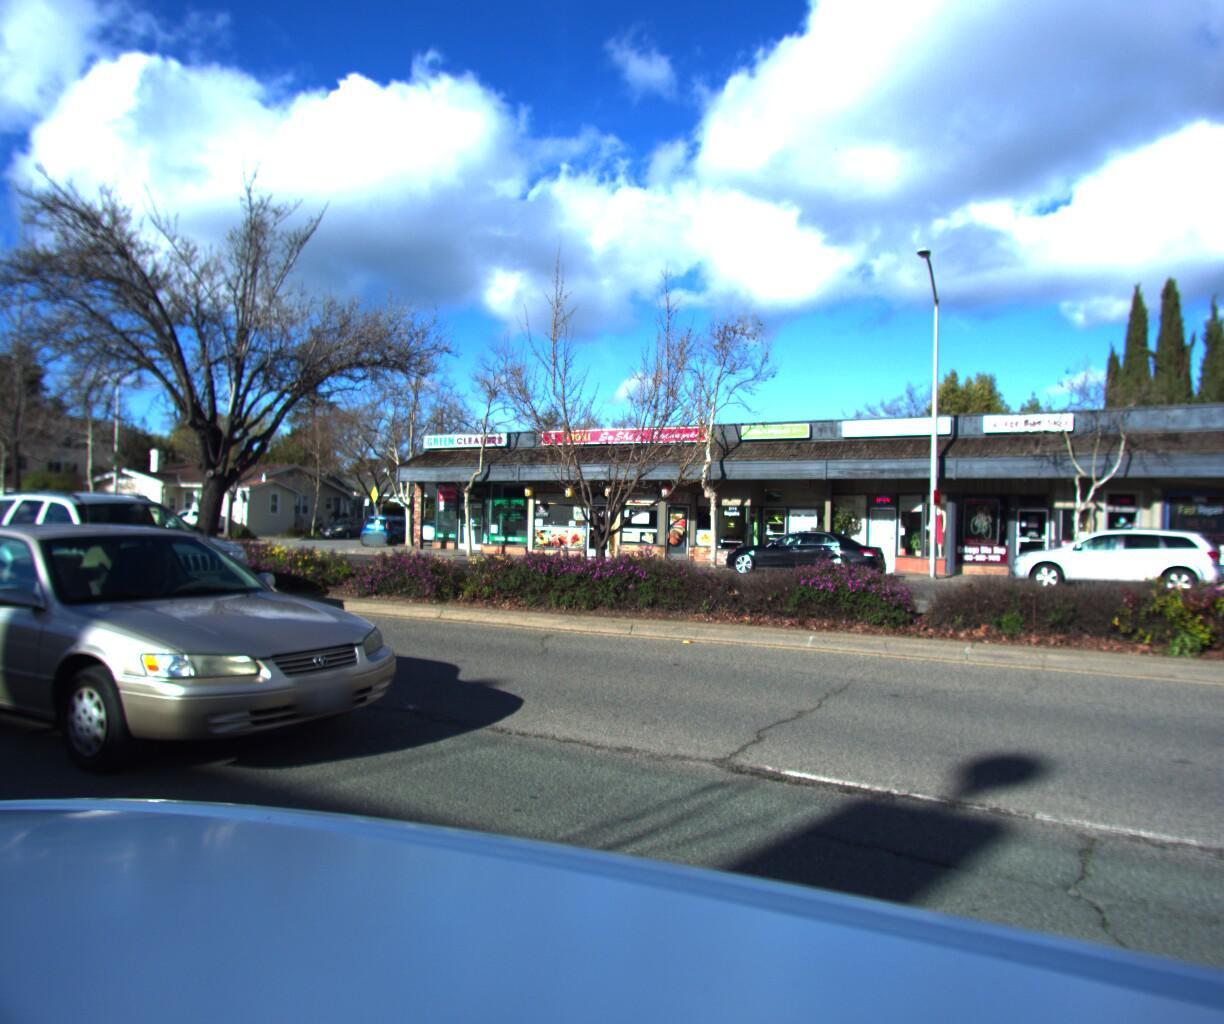car: (0, 490, 446, 819), (0, 485, 285, 635), (999, 526, 1224, 600), (714, 530, 896, 590), (354, 516, 427, 549), (409, 522, 473, 549), (317, 519, 382, 542)
